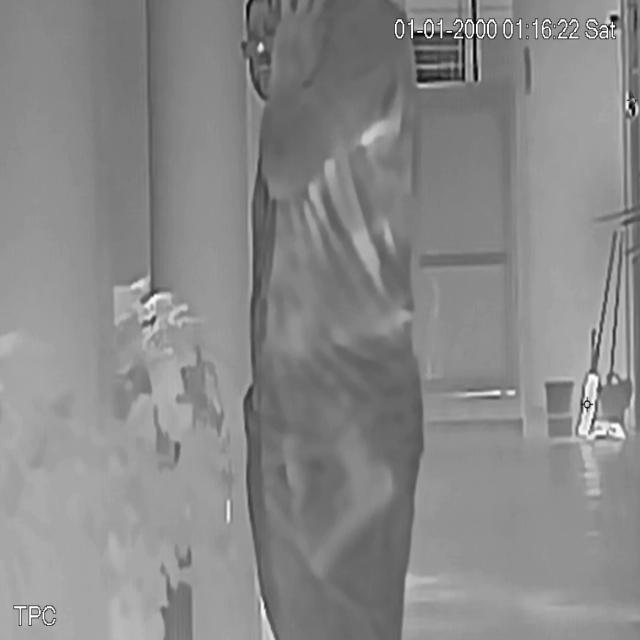Weapon: (304, 424, 404, 592)
